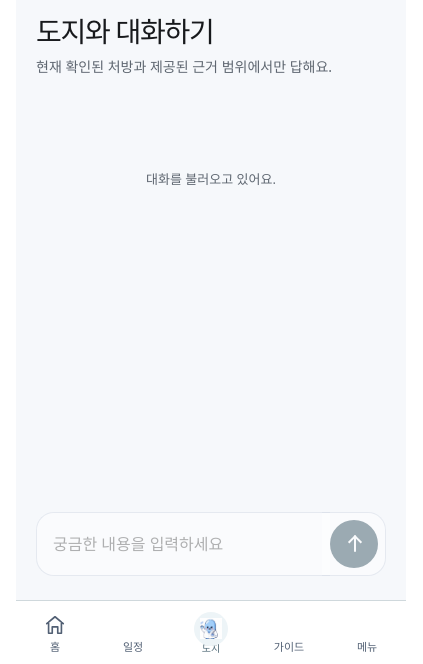
Test: ChatPage › 마지막 메시지가 USER이거나 FAILED ASSISTANT면 과거 완료 답변으로 feedback target을 대체하지 않는다
(page scrolled)
Type "완료될 질문" into the text box named "복약 질문" at (183, 544), box [36, 512, 330, 576]
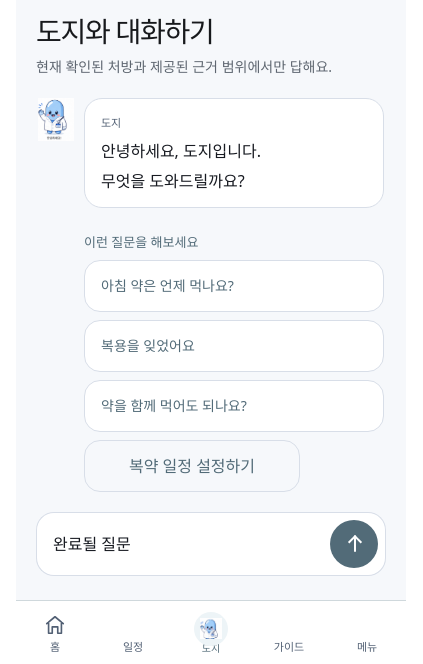
Click the button named "질문 전송" at (354, 544), box [322, 512, 386, 576]
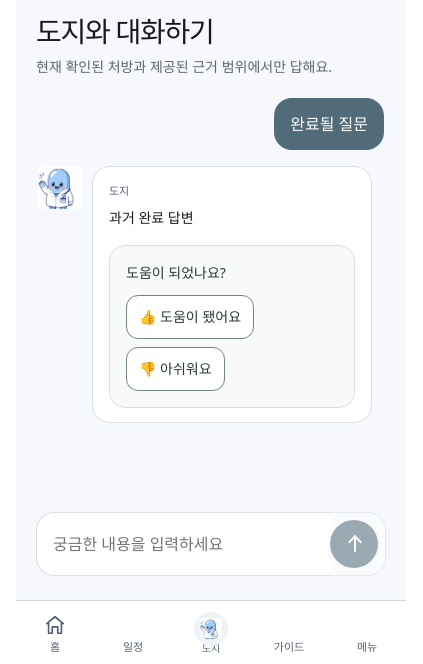
Result: the text "과거 완료 답변" is shown at [109, 208, 194, 227]
Result: the element named "답변 피드백" is shown at [109, 245, 355, 408]
Type "USER-only 상태 질문" into the text box named "복약 질문" at (183, 544), box [36, 512, 330, 576]
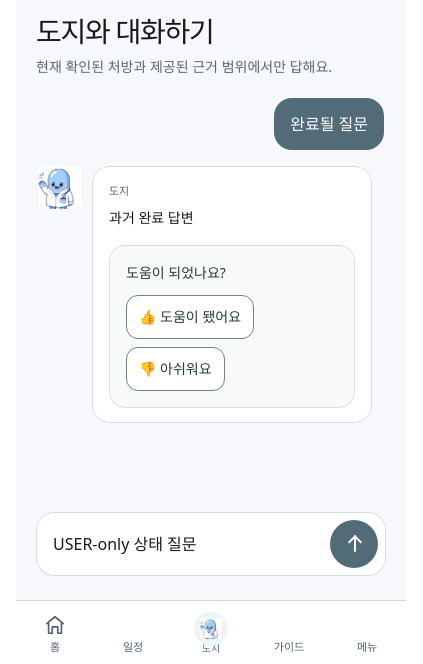
Click the button named "질문 전송" at (354, 544), box [322, 512, 386, 576]
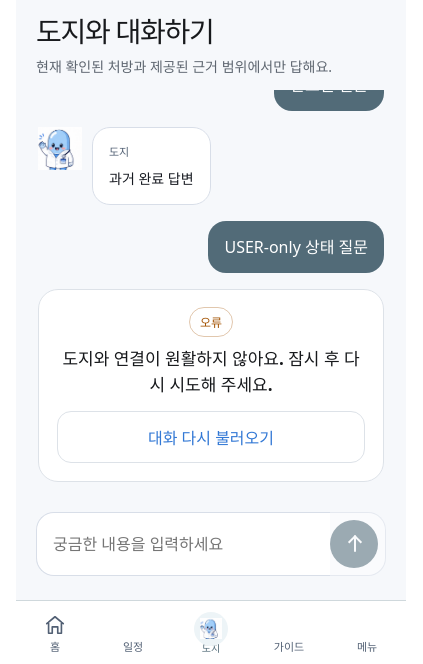
Result: the text "USER-only 상태 질문" is shown at [208, 221, 384, 273]
Result: the message "도지와 연결이 원활하지 않아요. 잠시 후 다시 시도해 주세요." is shown at [57, 346, 365, 397]
Type "실패할 질문" into the text box named "복약 질문" at (183, 544), box [36, 512, 330, 576]
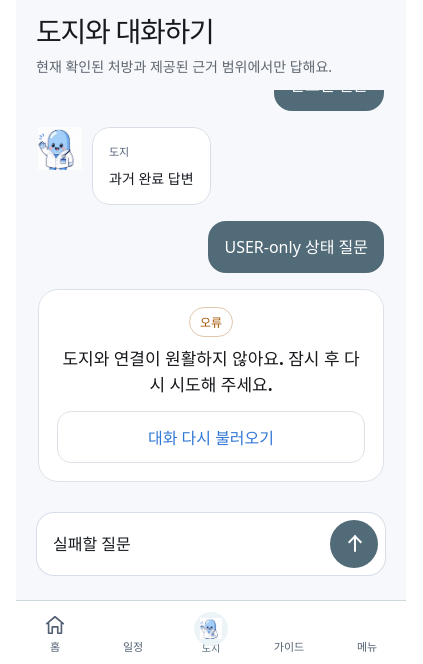
Click the button named "질문 전송" at (354, 544), box [322, 512, 386, 576]
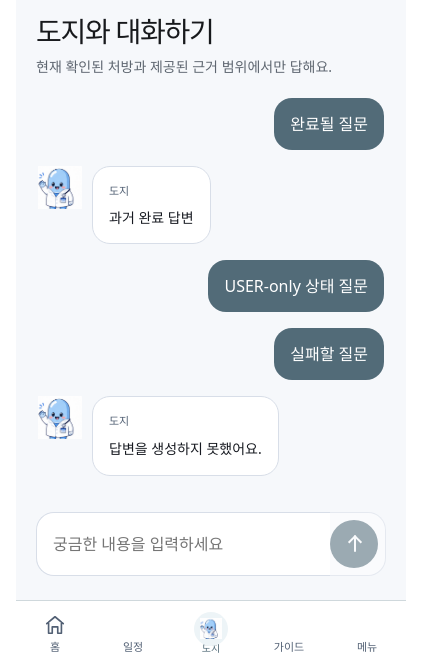
Result: the text "답변을 생성하지 못했어요." is shown at [92, 396, 279, 476]
